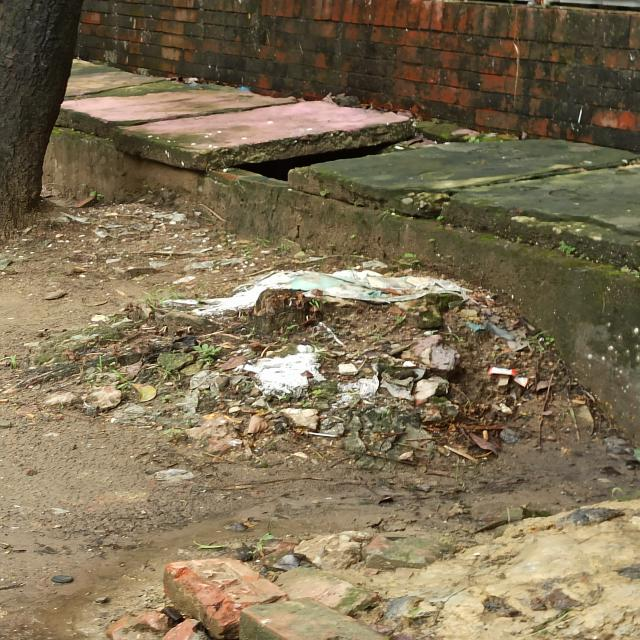drain_inlet: (192, 115, 487, 188)
